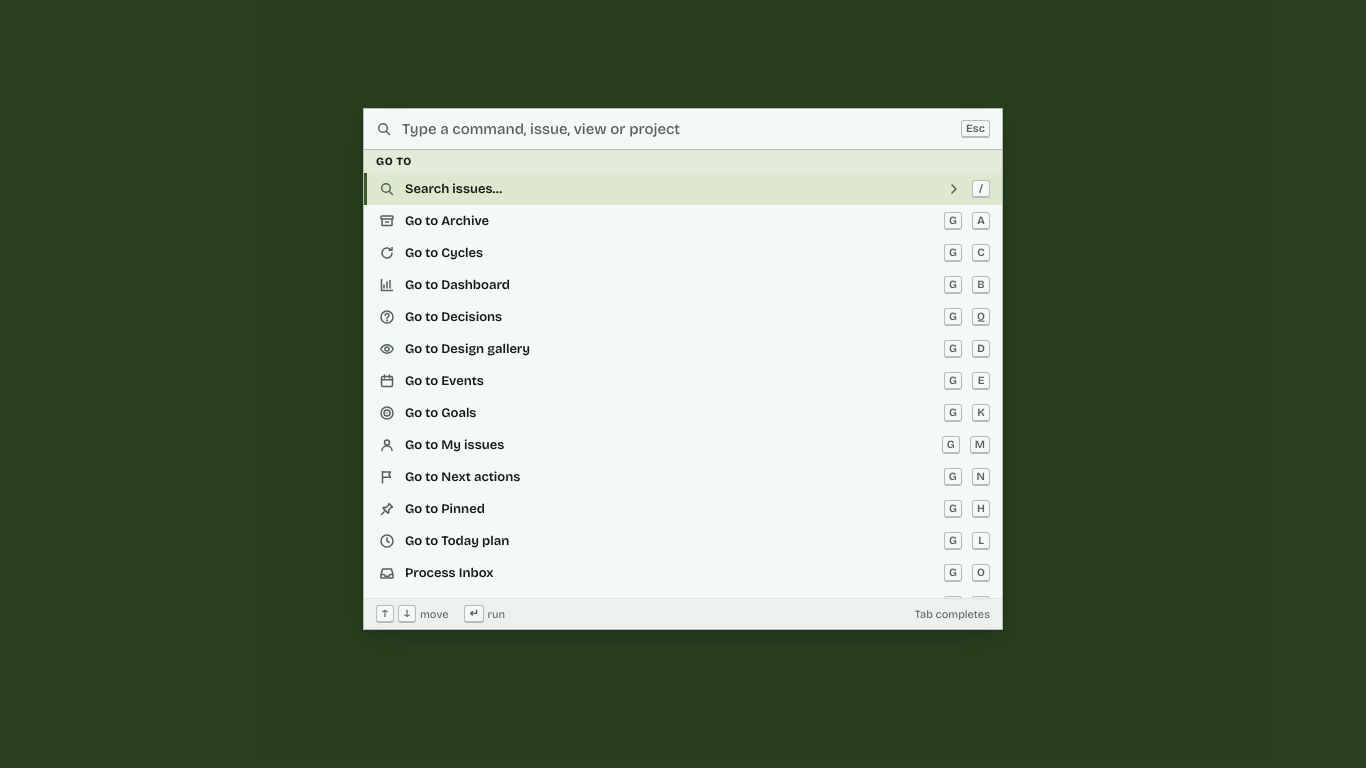
Test: CommandPalette › lists_commands_in_a_listbox_with_the_registry_shortcut
In the dropdown with placeholder "Type a command, issue, view or project": coordinates (677, 128) [400, 118, 953, 138], type "zebra plain"
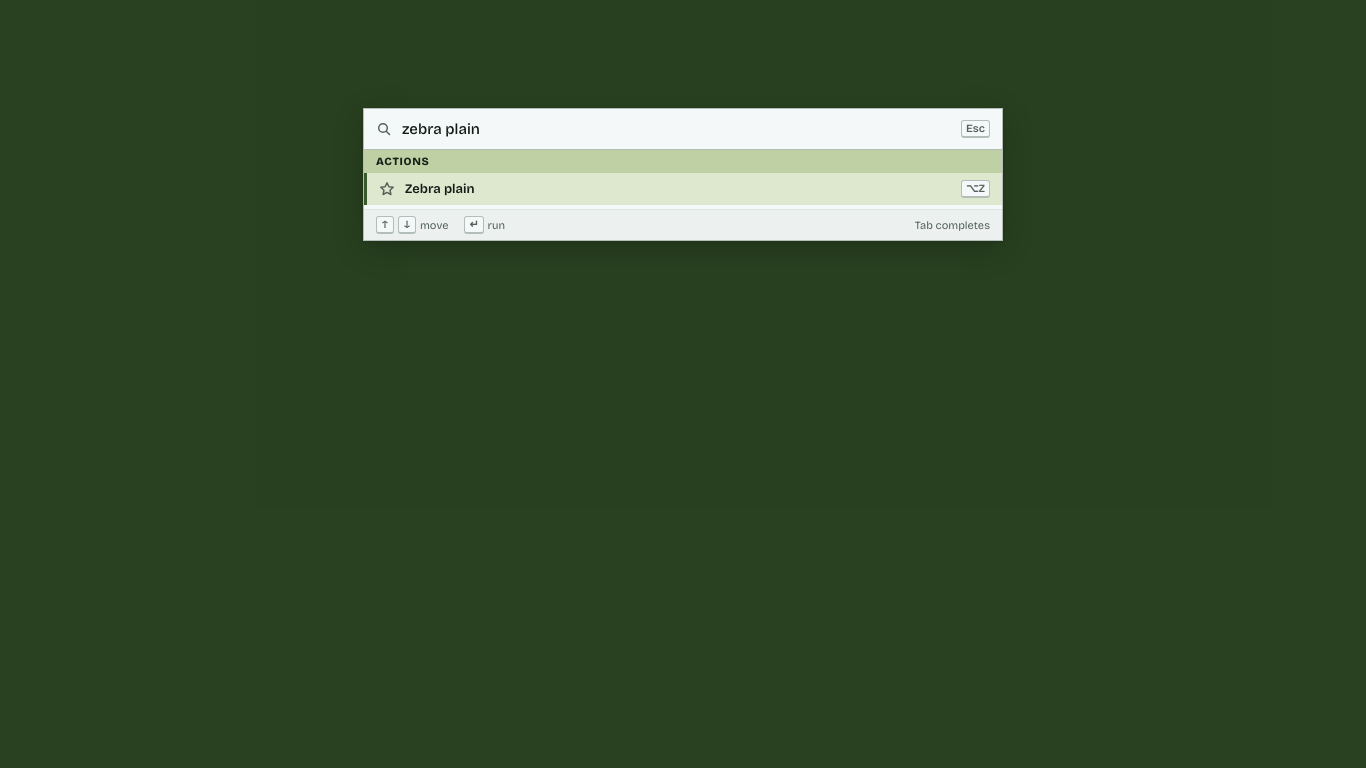
Check: the list is shown, box [364, 150, 1002, 209]
Check: the option "Zebra plain ⌥Z" is shown, box [364, 173, 1002, 205]
Check: the text "⌥Z" is shown, box [961, 180, 990, 198]
